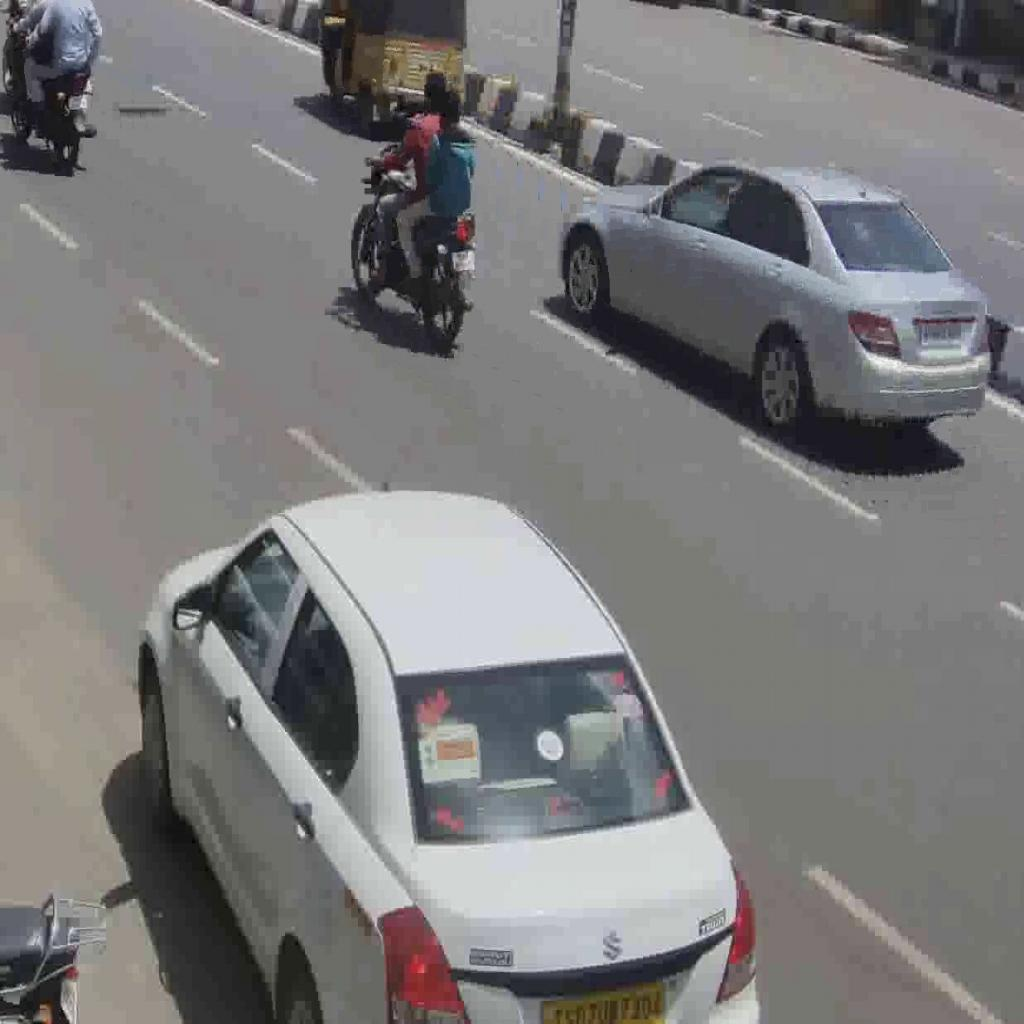helmet: (351, 143, 478, 346), (8, 17, 98, 166)
